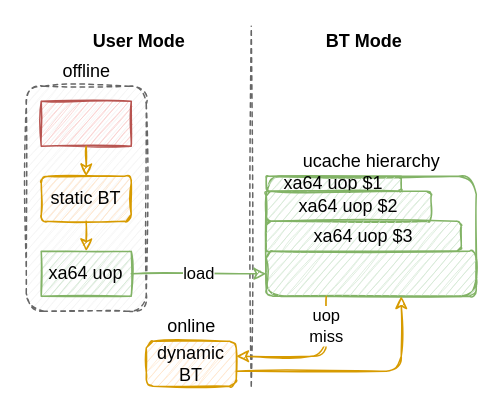
The diagram is 503 pixels wide and 414 high, and some of its shapes have lost their labels. The shapes that lost their labels are listed below. From the top down, each one's centre as x and y in pixels, then its label:
point 85,123: x64 (Guest)
point 370,273: memory or dedicated ram
